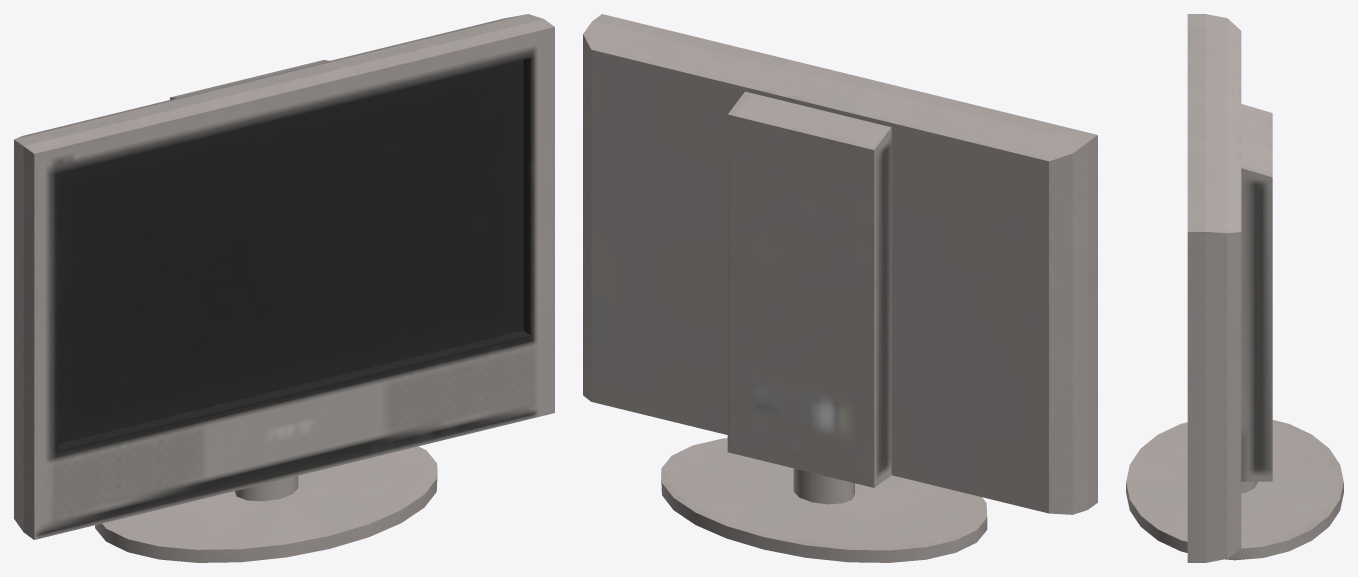
File: D_TV_Table.FBX
3 views of the same model, side by side, from view 1: azimuth 30°, elevation 25°; view 2: azimuth 150°, elevation 25°; view 3: azimuth 270°, elevation 25° (orthographic). The views are drawn at different scales.
Parts seen in each view (by area): view 1: D_TV_Table; view 2: D_TV_Table; view 3: D_TV_Table.
Part boxes in pixels (left/top/right/bottom): D_TV_Table: left=14, top=14, right=554, bottom=562; D_TV_Table: left=583, top=14, right=1097, bottom=562; D_TV_Table: left=1126, top=14, right=1343, bottom=562.
Bounding box in the file's own units: 86.45 × 68.57 × 36.51.
